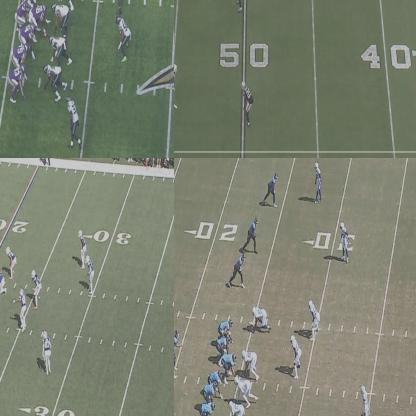CENTER: (34, 2, 50, 32), (223, 353, 236, 377)
DB: (68, 96, 80, 146), (242, 81, 254, 123), (339, 222, 349, 262), (44, 331, 52, 375), (78, 230, 86, 264), (85, 255, 92, 291), (362, 384, 370, 415), (316, 164, 322, 200), (235, 0, 247, 10)
LB: (119, 15, 131, 60), (17, 288, 27, 328), (308, 300, 318, 338), (290, 336, 300, 374), (31, 271, 41, 308), (8, 245, 16, 278)
QB: (16, 0, 28, 28), (174, 330, 181, 370)
SKILL: (11, 65, 27, 104), (245, 216, 258, 252), (266, 173, 278, 206), (235, 250, 246, 285), (174, 62, 179, 107), (202, 401, 213, 415)
